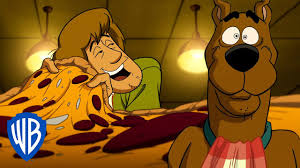scooby: (167, 1, 300, 168)
